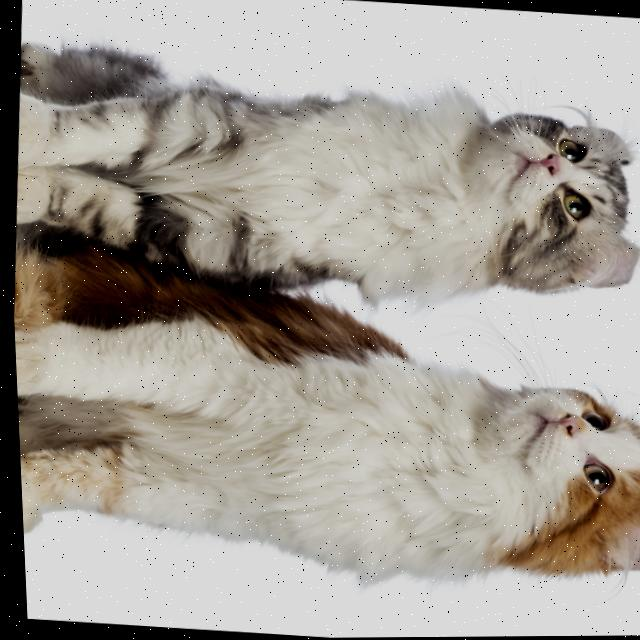American Curl: (8, 234, 640, 612), (3, 30, 640, 321)
